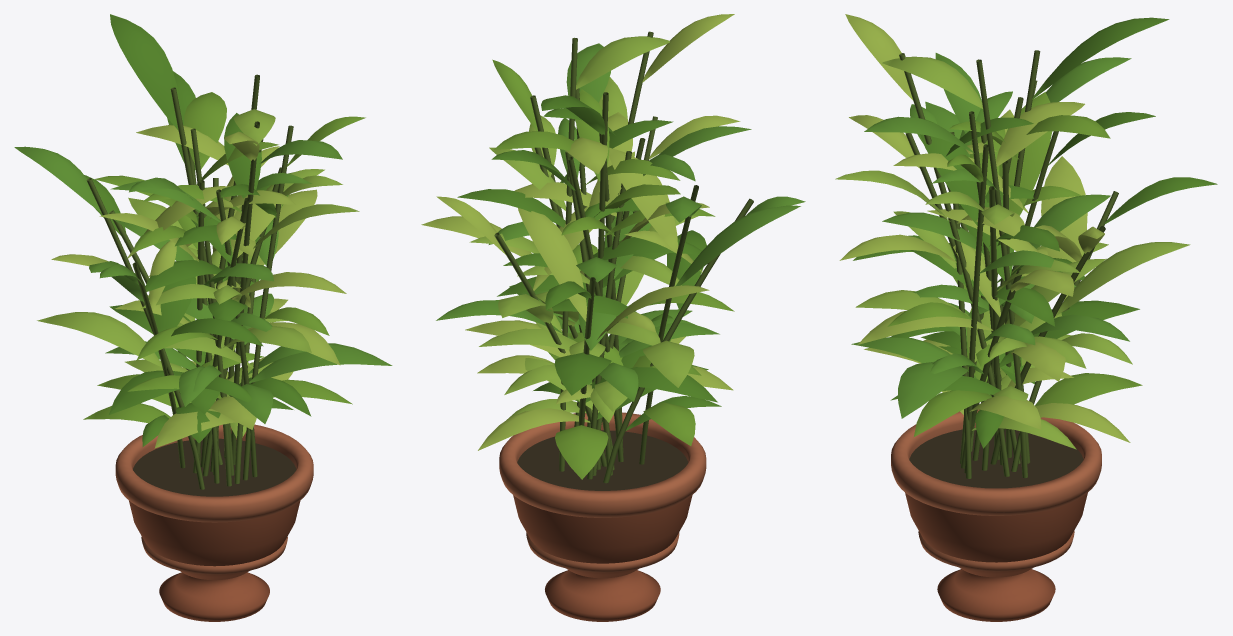
The model's file is celestial-plant.glb.
3 renders of one model, left to right at view 1: azimuth 30°, elevation 25°; view 2: azimuth 150°, elevation 25°; view 3: azimuth 270°, elevation 25°, orthographic. The views are drawn at different scales.
Visible parts, largest first — view 1: Leaf 0, Leaf 4, Leaf 3, Olive stems, Warm aged terracotta, Leaf 2, Leaf 1, Terracotta rim, Dark potting soil; view 2: Leaf 4, Leaf 2, Leaf 0, Warm aged terracotta, Leaf 3, Olive stems, Leaf 1, Terracotta rim, Dark potting soil; view 3: Leaf 4, Leaf 3, Leaf 0, Leaf 2, Olive stems, Warm aged terracotta, Terracotta rim, Leaf 1, Dark potting soil.
Part boxes in pixels (x1,y1,x2,y2): Leaf 0: [84, 14, 311, 446]; Leaf 4: [51, 125, 346, 448]; Leaf 3: [14, 140, 392, 423]; Olive stems: [86, 74, 293, 489]; Warm aged terracotta: [129, 500, 300, 621]; Leaf 2: [37, 109, 359, 438]; Leaf 1: [83, 92, 365, 423]; Terracotta rim: [115, 424, 313, 574]; Dark potting soil: [133, 438, 296, 496]; Leaf 4: [421, 14, 740, 450]; Leaf 2: [469, 36, 698, 422]; Leaf 0: [457, 95, 721, 430]; Warm aged terracotta: [513, 495, 692, 621]; Leaf 3: [436, 43, 805, 401]; Olive stems: [494, 31, 753, 483]; Leaf 1: [492, 59, 734, 479]; Terracotta rim: [499, 412, 706, 572]; Dark potting soil: [517, 430, 688, 490]; Leaf 4: [839, 14, 1130, 442]; Leaf 3: [851, 53, 1131, 418]; Leaf 0: [853, 17, 1217, 448]; Leaf 2: [835, 56, 1190, 449]; Olive stems: [899, 50, 1118, 478]; Warm aged terracotta: [905, 492, 1087, 621]; Terracotta rim: [891, 409, 1101, 571]; Leaf 1: [887, 92, 1142, 436]; Dark potting soil: [909, 428, 1083, 488].
Size of the model in its own units: 0.8598 by 1.48 by 0.9096.
